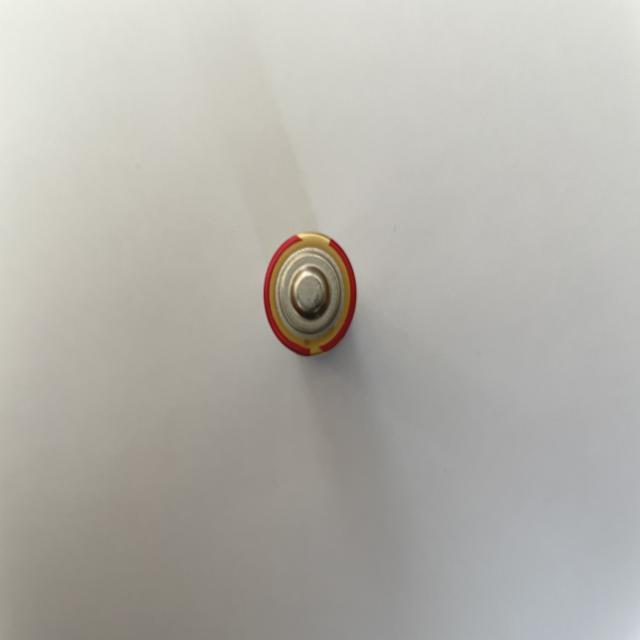AA: (262, 228, 363, 360)
